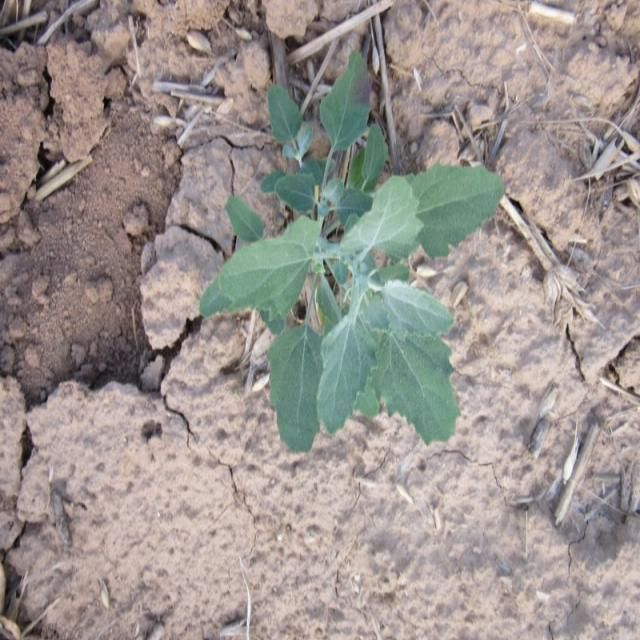ca: (203, 58, 500, 449)
